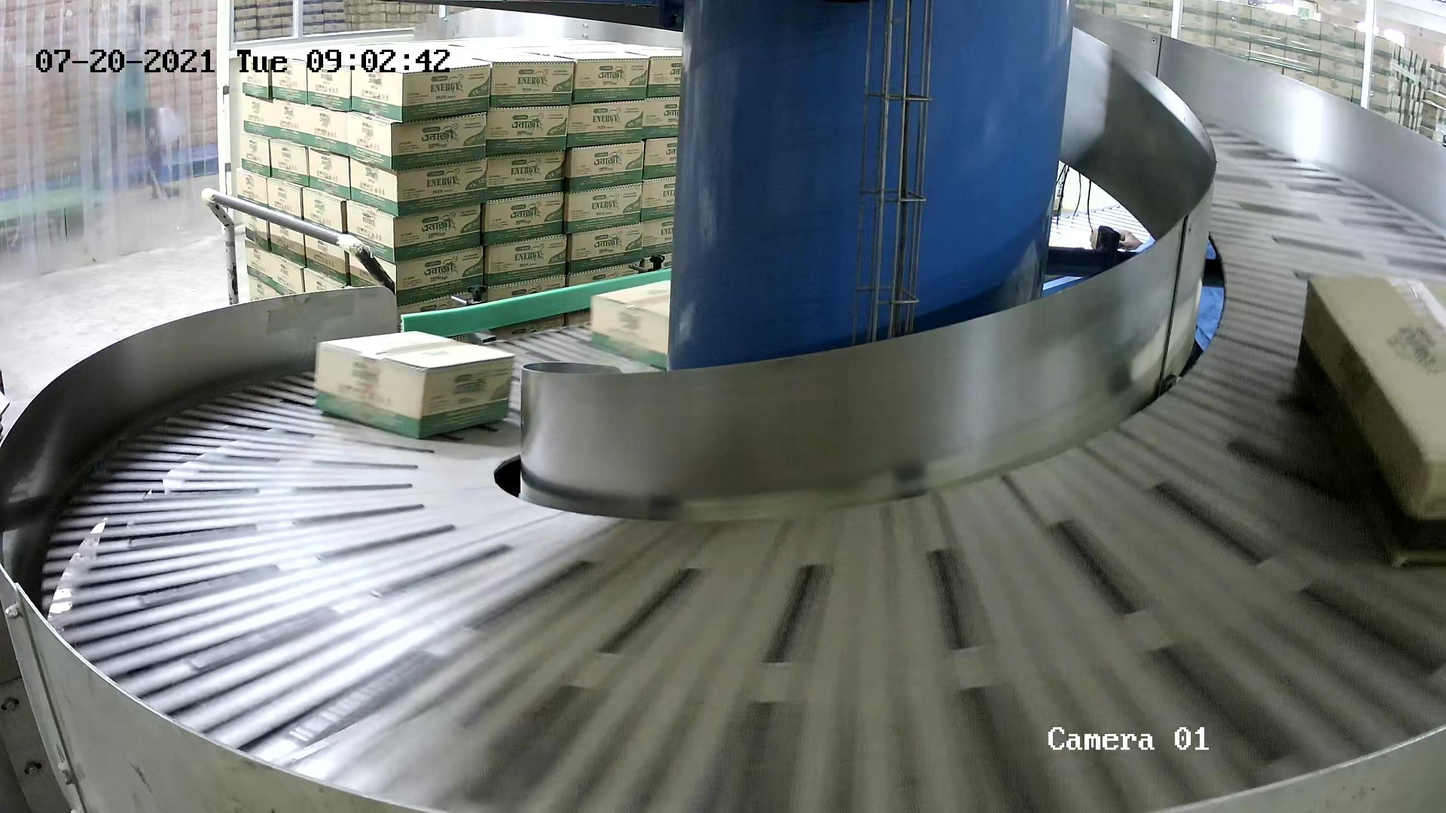Box: (1290, 270, 1446, 571), (314, 329, 516, 441), (590, 279, 723, 373)
